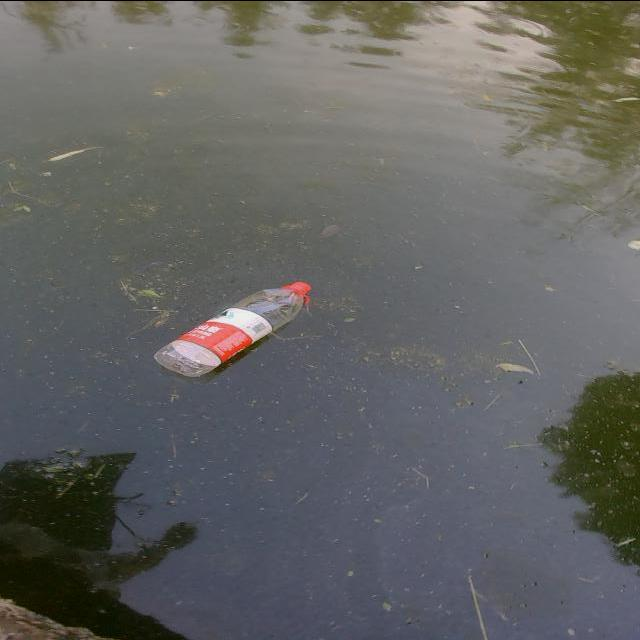bottle: (123, 266, 320, 401)
